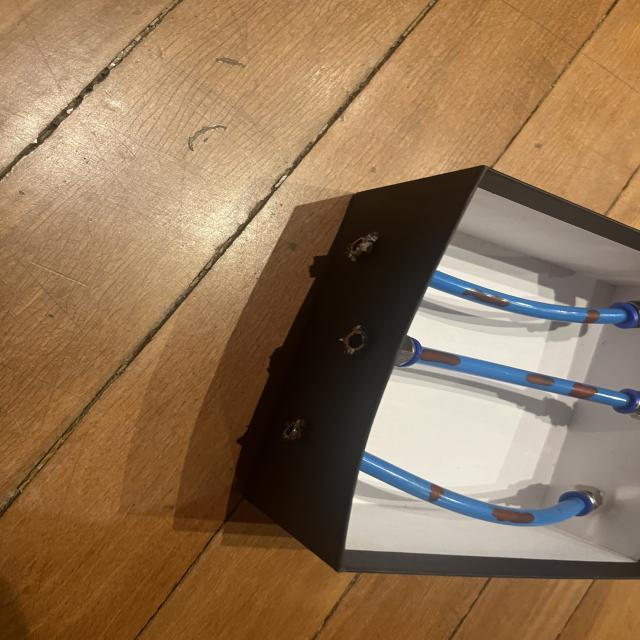hose_damage: (457, 286, 515, 310), (416, 346, 467, 370), (487, 504, 537, 526), (564, 380, 602, 403), (520, 370, 560, 391), (424, 480, 447, 508), (583, 308, 601, 324)
